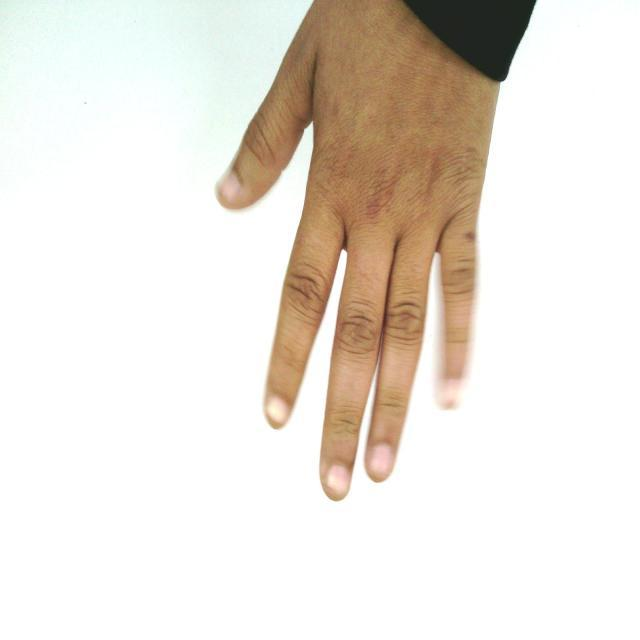Fingernail: (369, 445, 393, 477), (327, 465, 349, 496), (219, 171, 240, 201), (267, 396, 288, 424), (442, 380, 457, 405)
